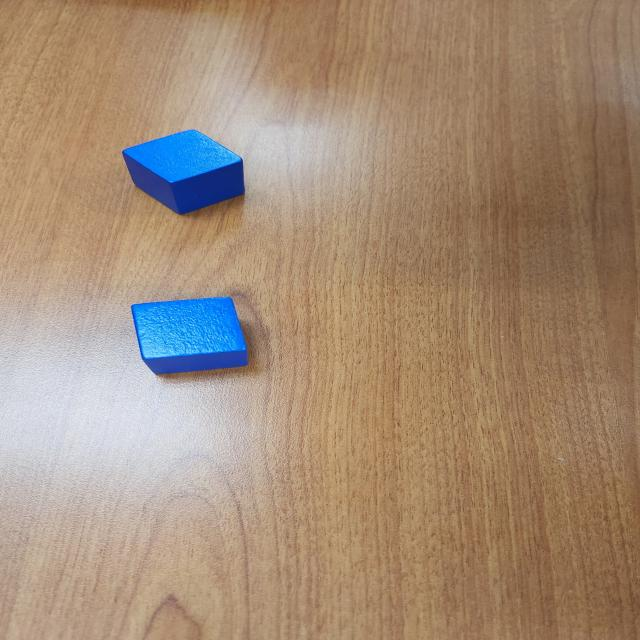blue: (120, 128, 246, 215), (129, 297, 249, 376)
